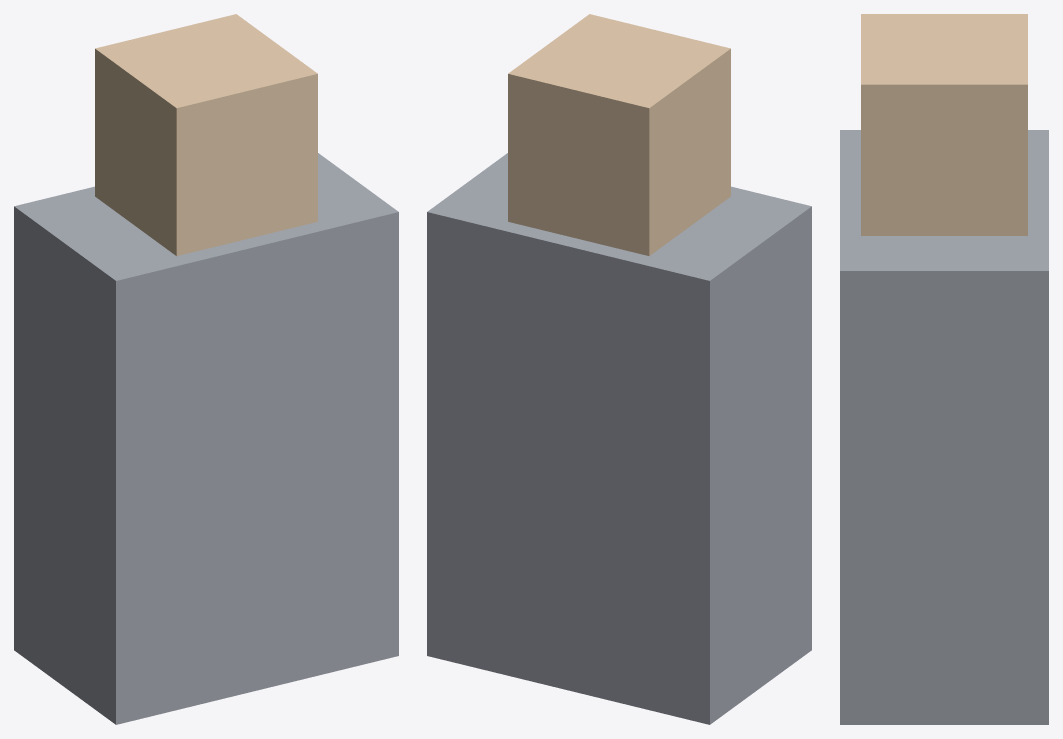
The model's file is patient.gltf.
3 views of the same model, side by side, from view 1: azimuth 30°, elevation 25°; view 2: azimuth 150°, elevation 25°; view 3: azimuth 270°, elevation 25° (orthographic). The views are drawn at different scales.
Parts seen in each view (by area): view 1: Body, Head; view 2: Body, Head; view 3: Body, Head.
Part boxes in pixels (<box>): Body: <box>14,153,398,724</box>; Head: <box>95,14,317,256</box>; Body: <box>427,153,811,724</box>; Head: <box>508,14,730,256</box>; Body: <box>840,130,1048,724</box>; Head: <box>861,14,1027,235</box>.
Size of the model in its own units: 0.4 by 0.8 by 0.25.
